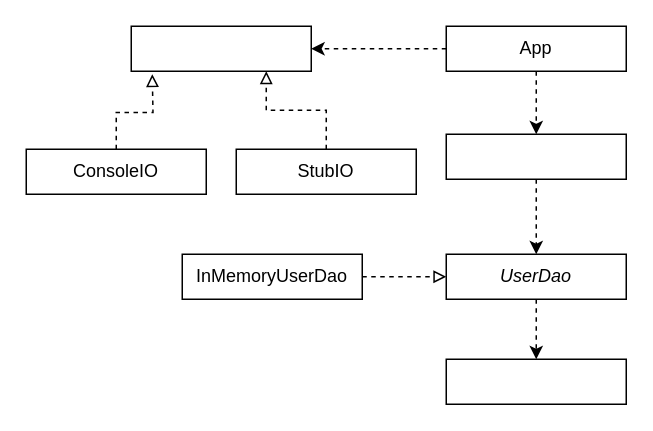
Image size: 653x431. Some labels were removed from this diagram. The centre of each missing label's shape, as x and y in pixels:
AuthenticationService: (x=535, y=156)
IO: (x=220, y=48)
User: (x=535, y=381)
